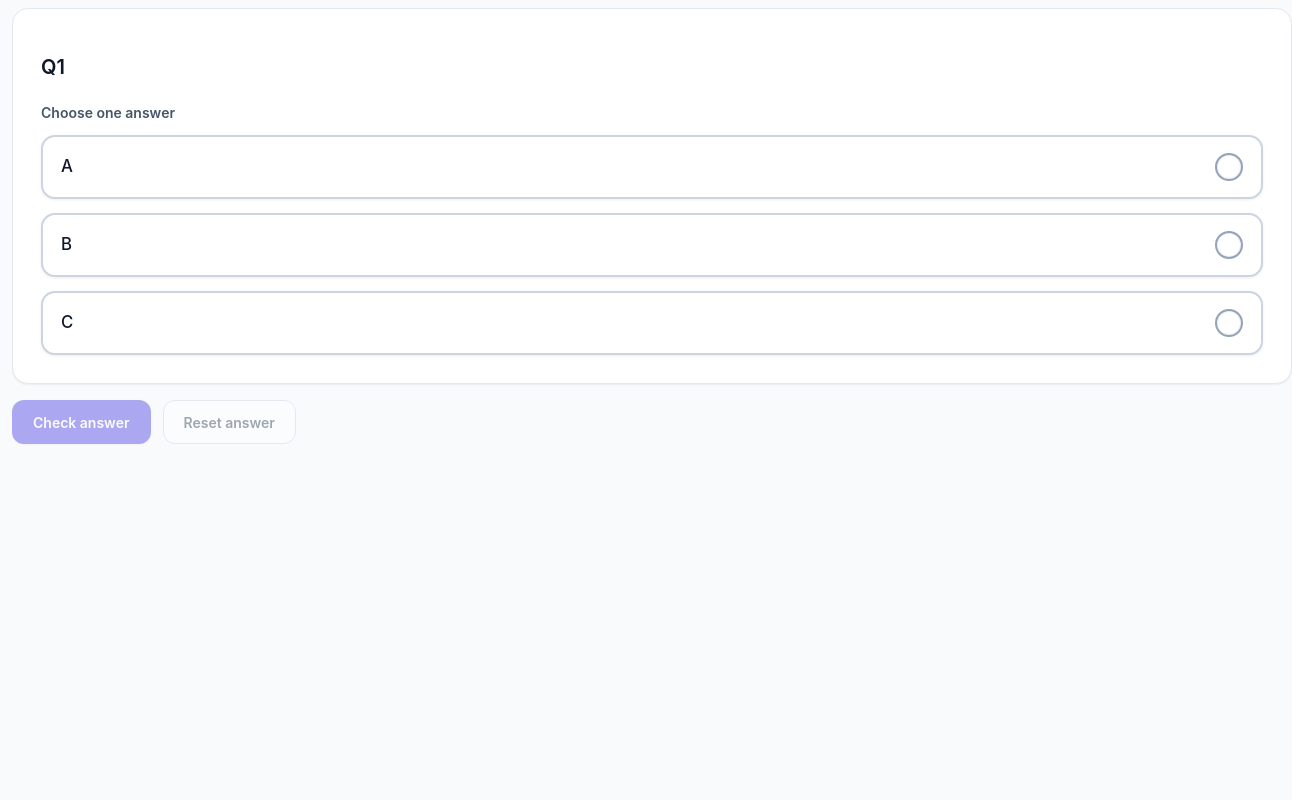
Scenario: PracticeRunner attempt payload › successful save exposes Next question
The image size is (1292, 800).
Click the radio button "A" at (67, 166), box [41,135,1263,199]
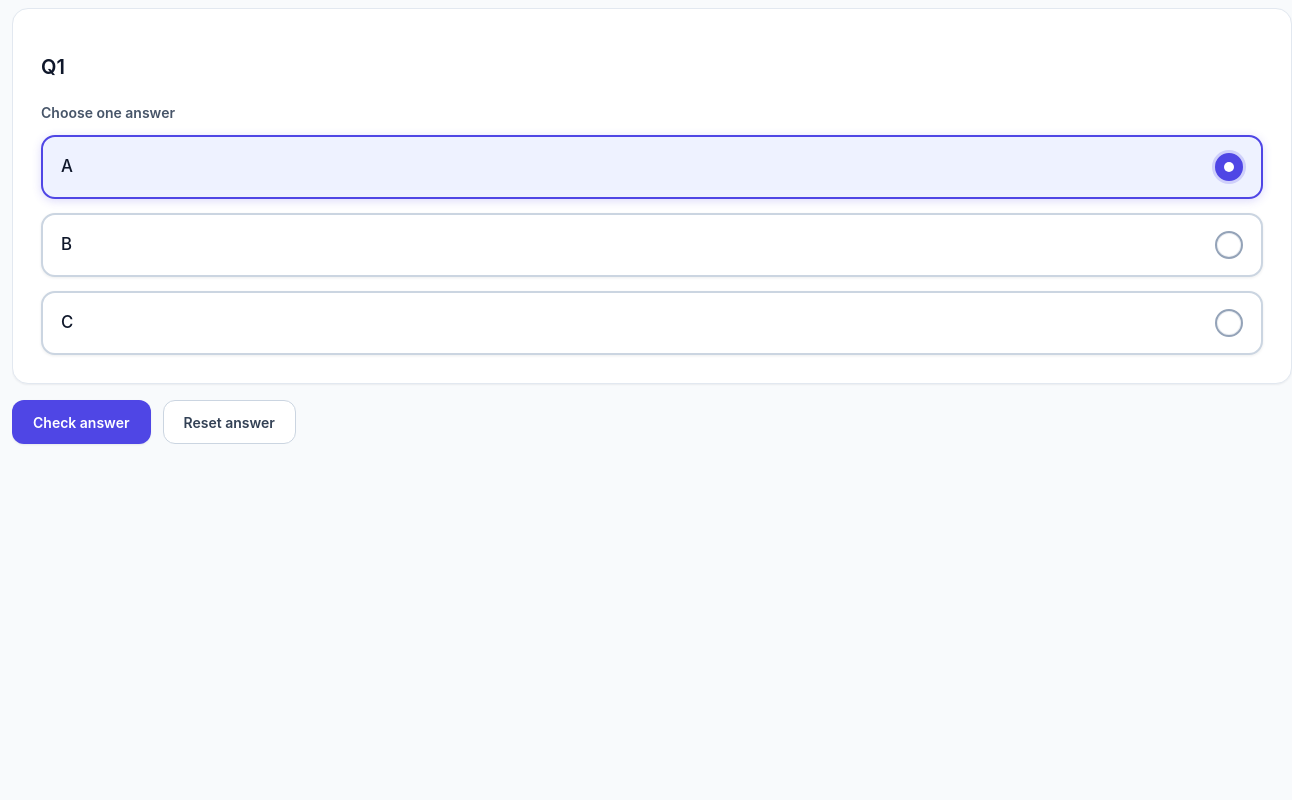
Click the button "Check answer" at (81, 422), box [12,400,150,444]
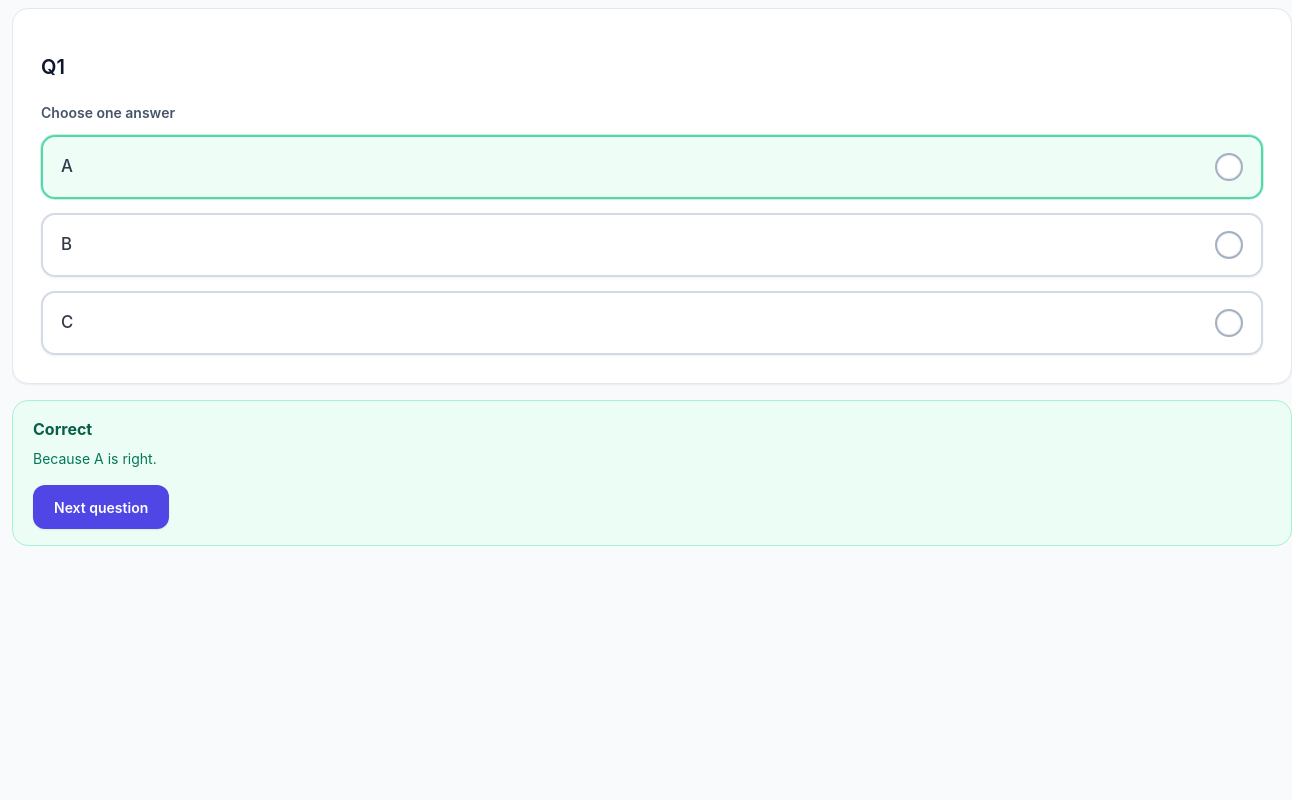
Now the element with test id "practice-feedback-panel" is shown, box [12,400,1291,546]
Now the button with test id "practice-next" reads "Next question", box [33,485,169,529]
